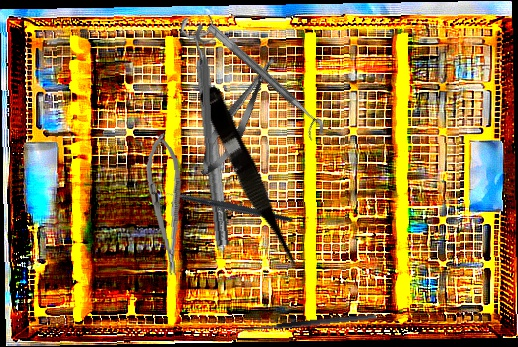Chopper: (156, 150, 294, 267)
Fixation Ring: (197, 22, 330, 144), (179, 14, 239, 248), (195, 23, 225, 167)
Hook Surgical: (234, 312, 378, 341)
Micro Scissor: (192, 83, 307, 280), (191, 49, 287, 182)
Needle Holder: (142, 132, 190, 277)
